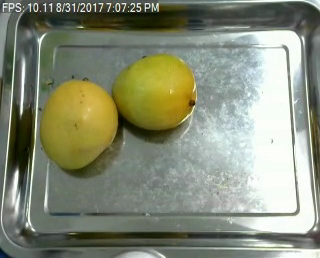Mango: (42, 80, 116, 168), (113, 57, 196, 130)
